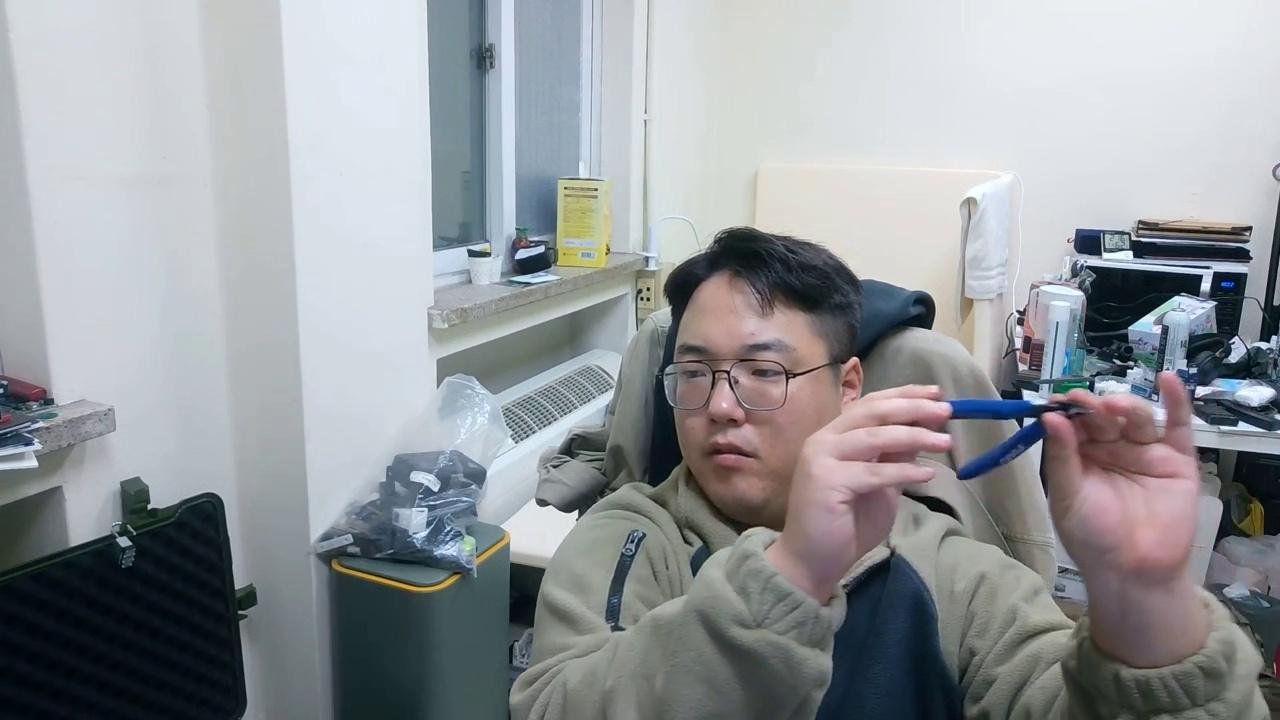blue_pliers: (939, 396, 1094, 482)
